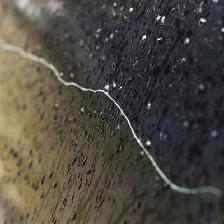door_scratch: (3, 39, 218, 204)
